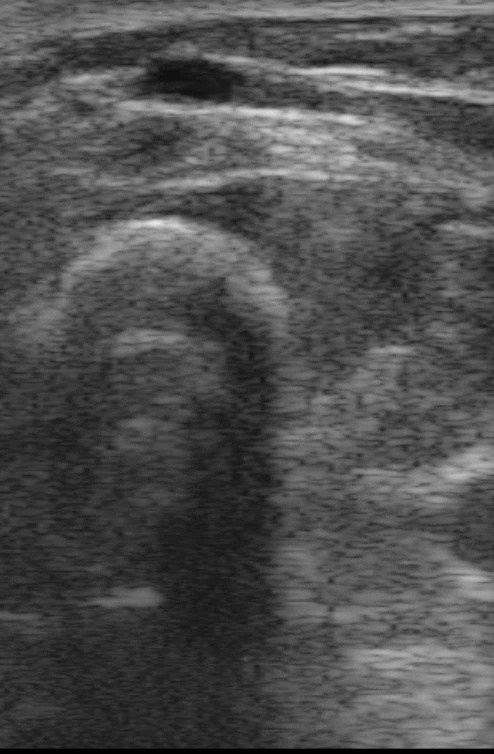veins_detect: (130, 51, 253, 114)
veins_seg: (137, 59, 246, 103)
